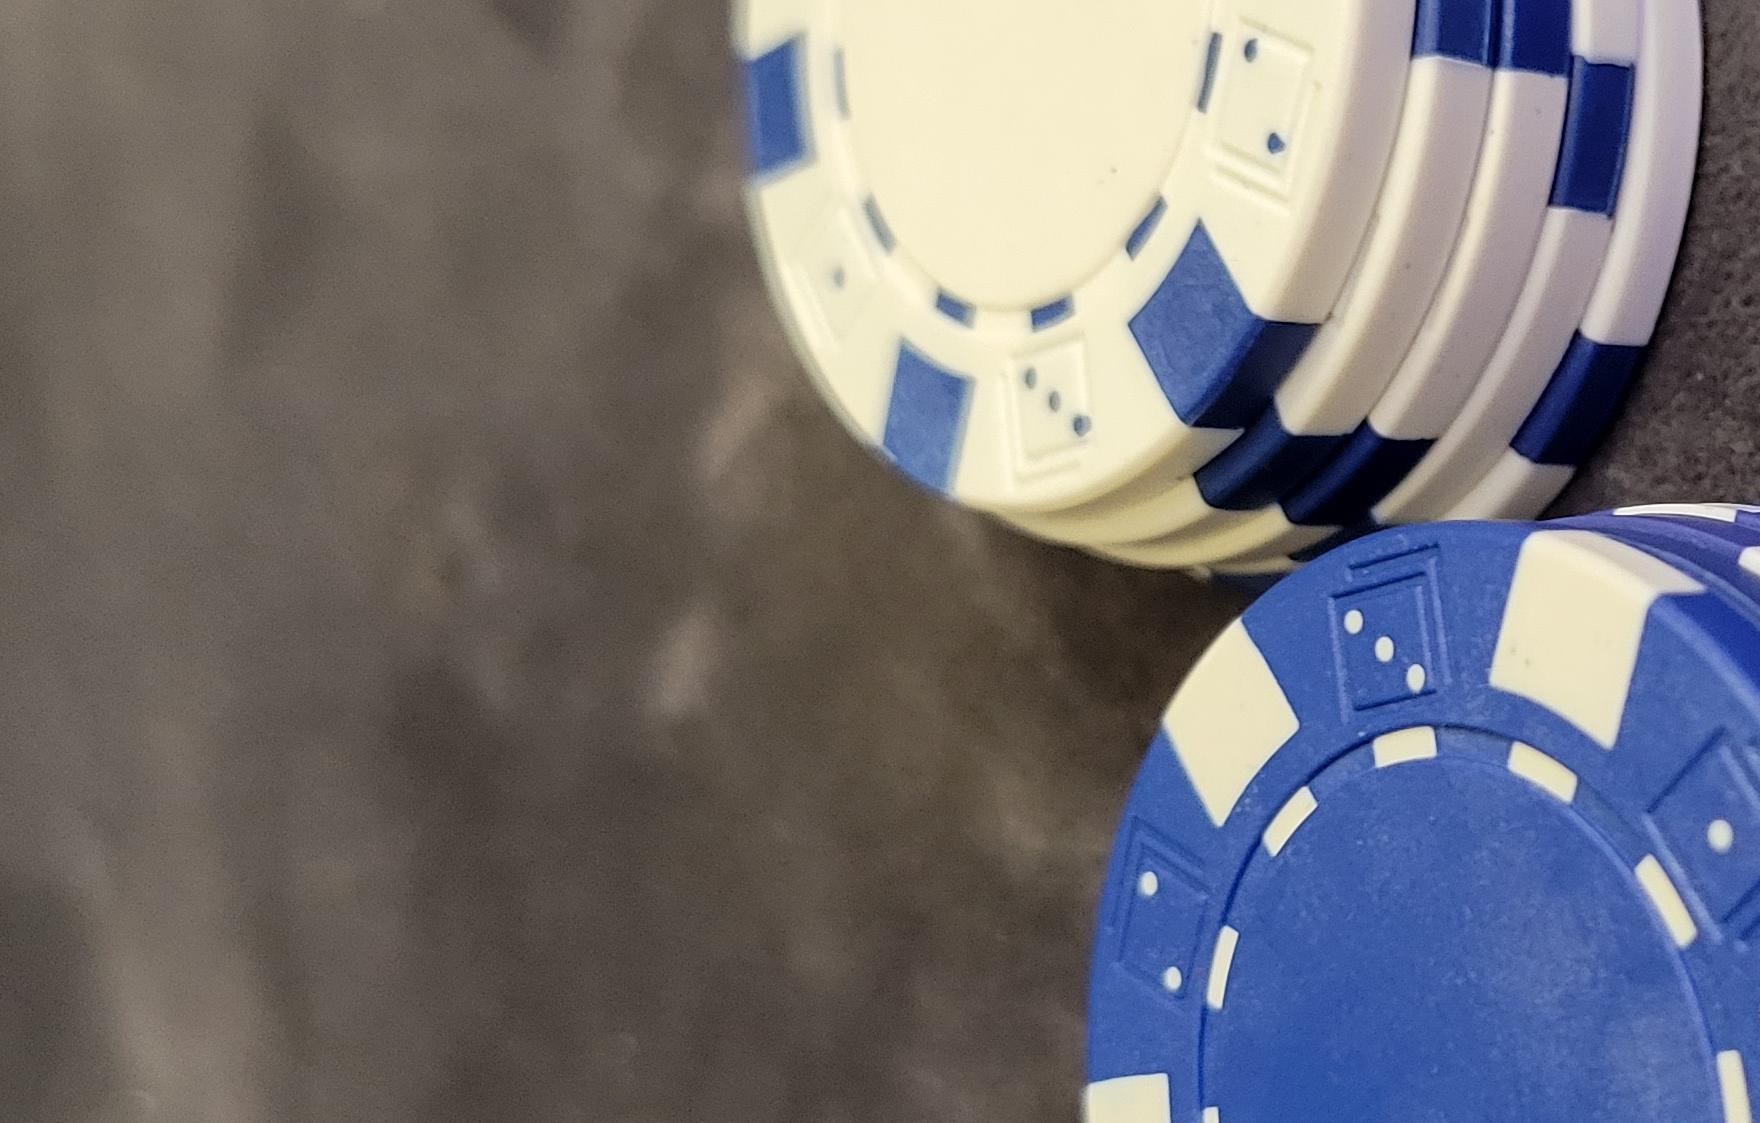Chip: (1, 327, 1224, 1123)
